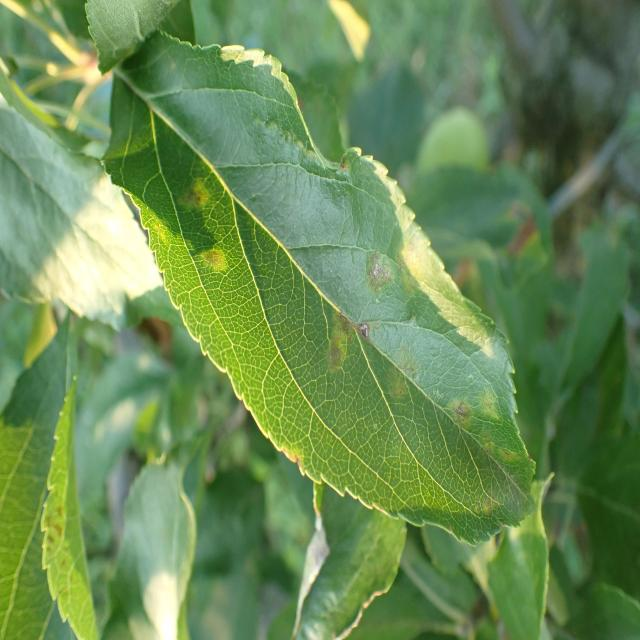scab: (142, 80, 525, 504)
